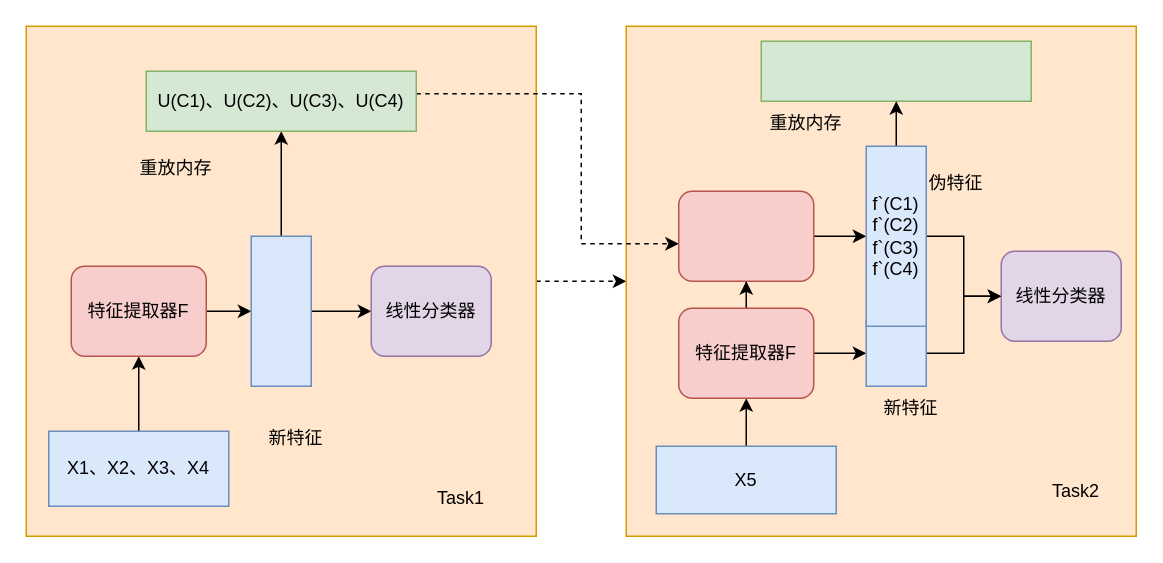
Image size: 1163x563. Some labels were removed from this diagram. Here are the shapes that lost their labels. From the top down, the centre of each, then its label:
point 895,70: U(C5)
point 745,235: 伪特征生成器G
point 280,310: f(C1) f(C2) f(C3) f(C4)
point 895,352: f(C5)
